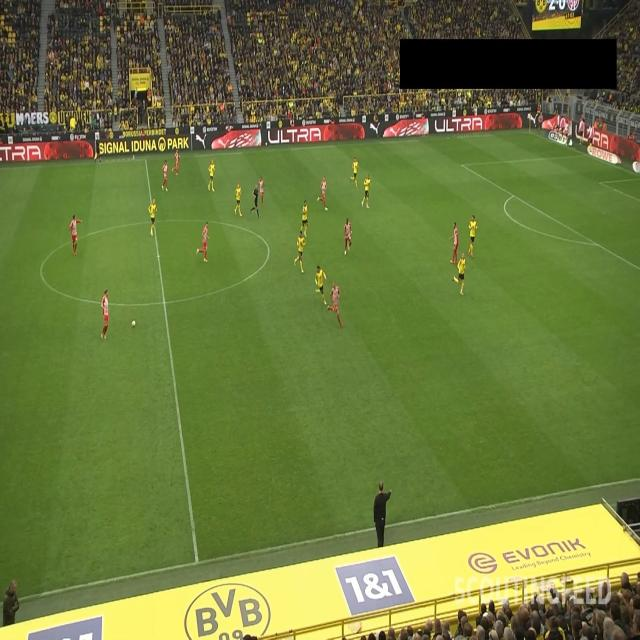ball: (131, 319, 136, 328)
